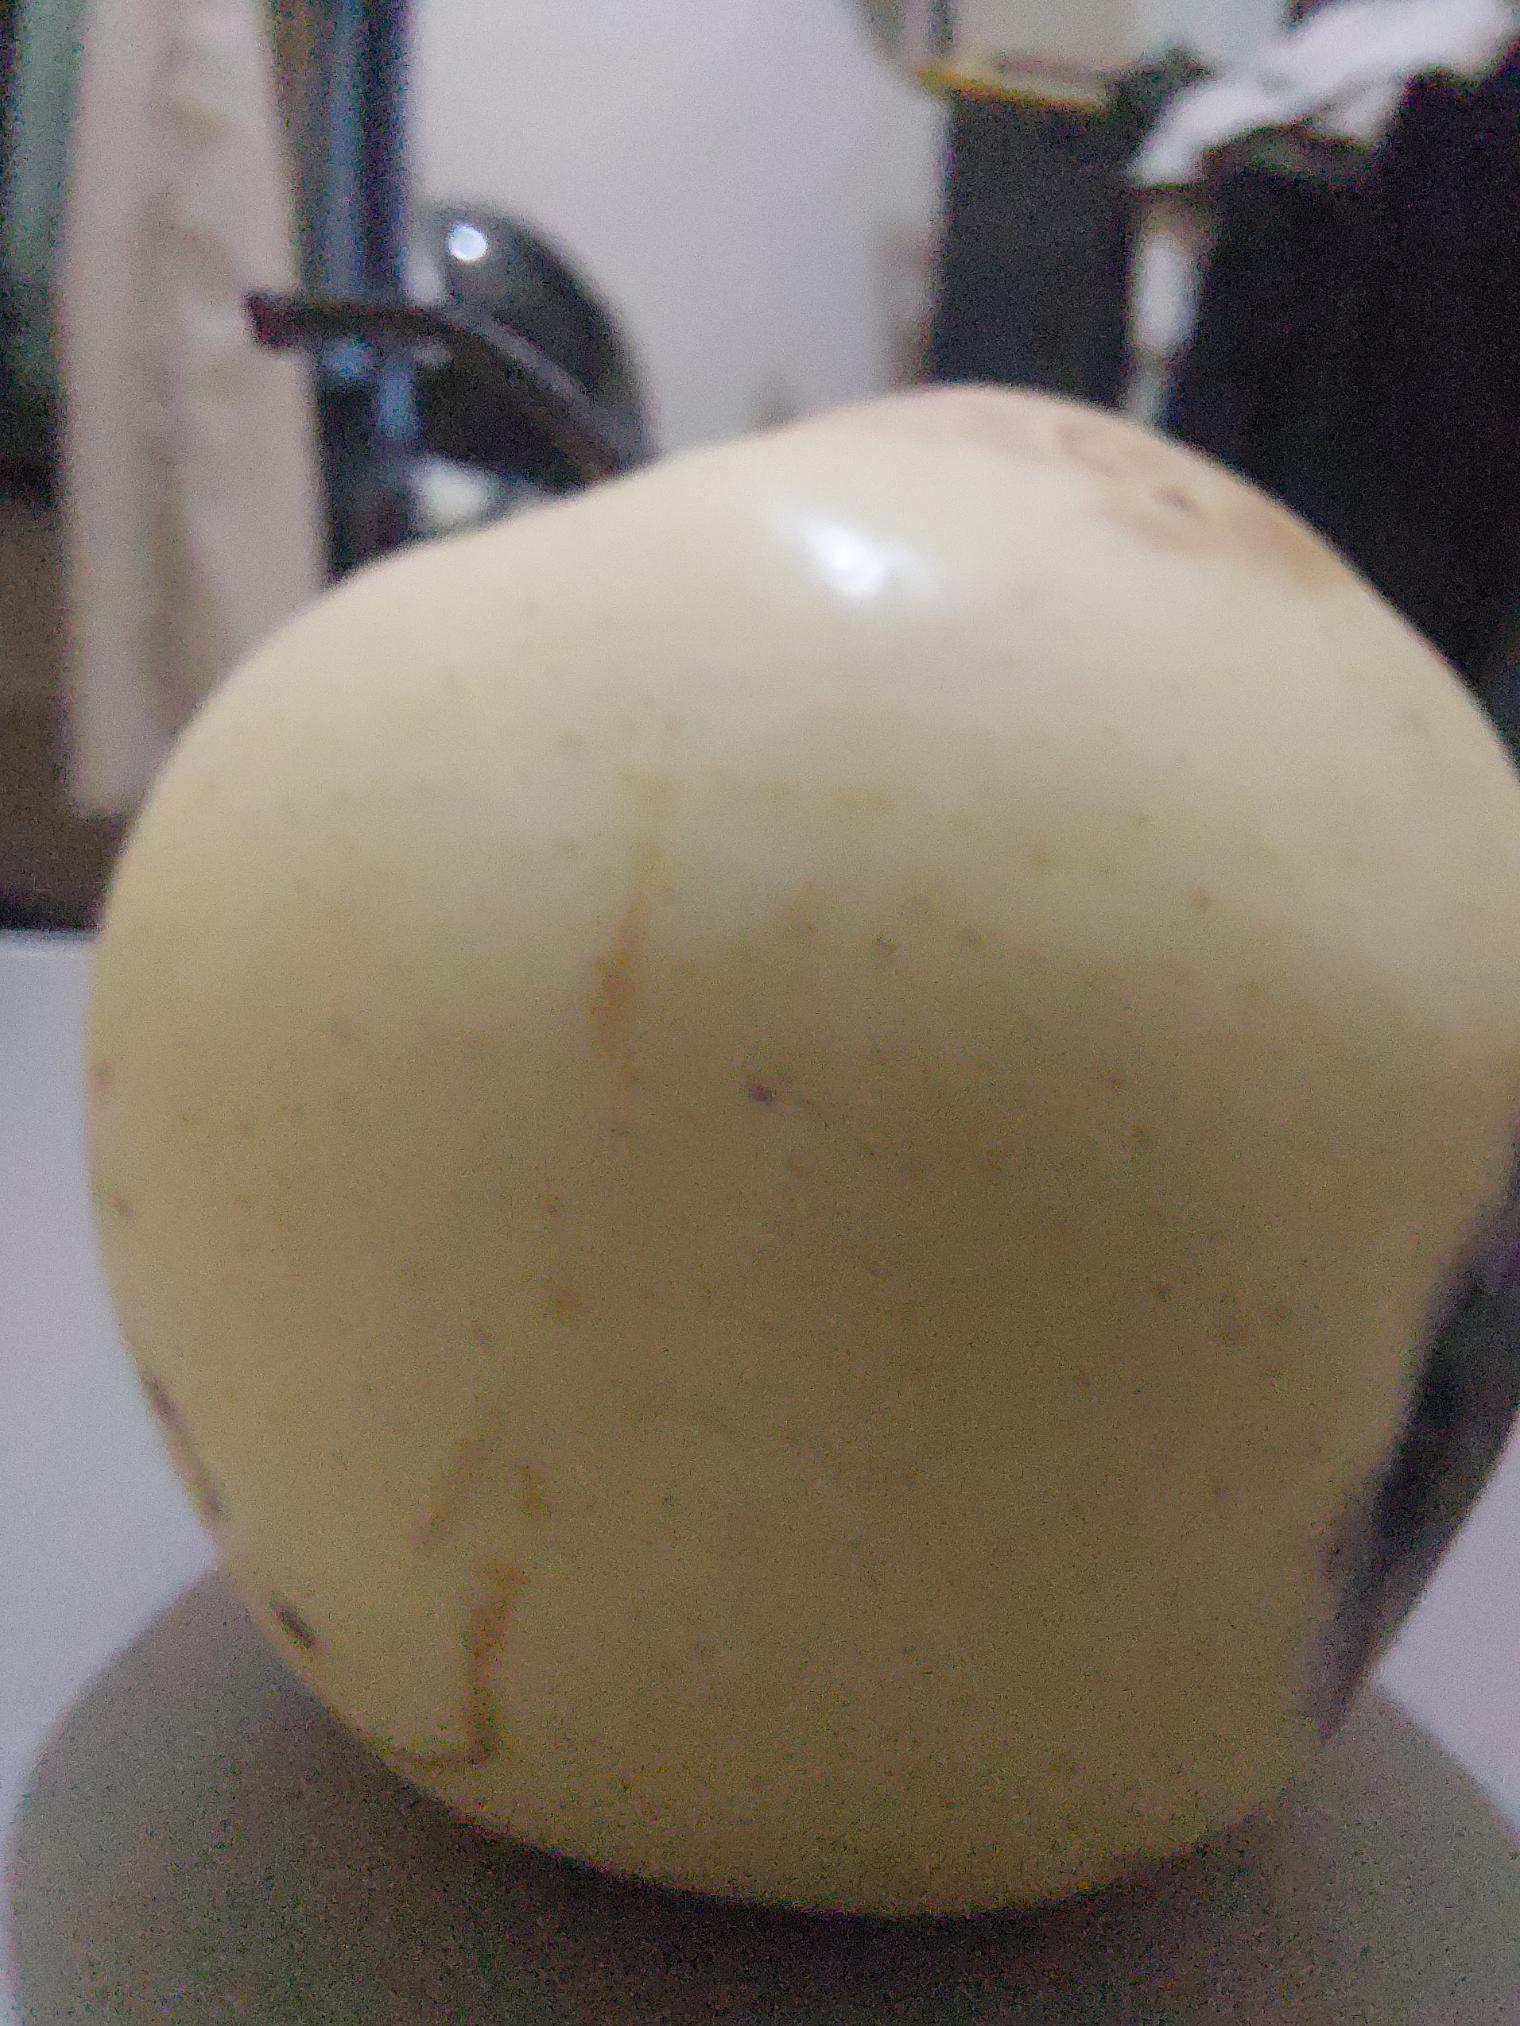Bad Pear: (100, 394, 1520, 1908)
